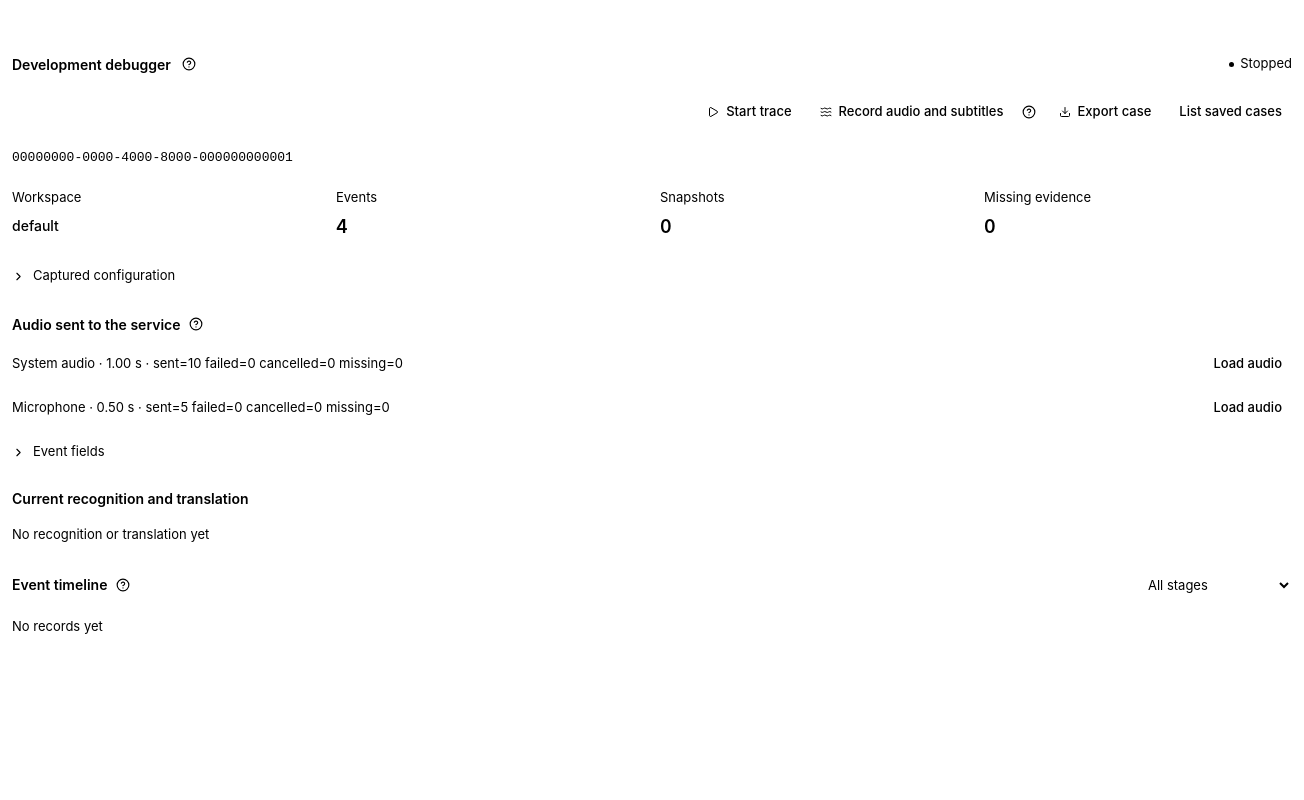
Test: explains a full case store without displaying arbitrary error content
Click the button "Record audio and subtitles" at (912, 112), box left=810, top=96, right=1014, bottom=128
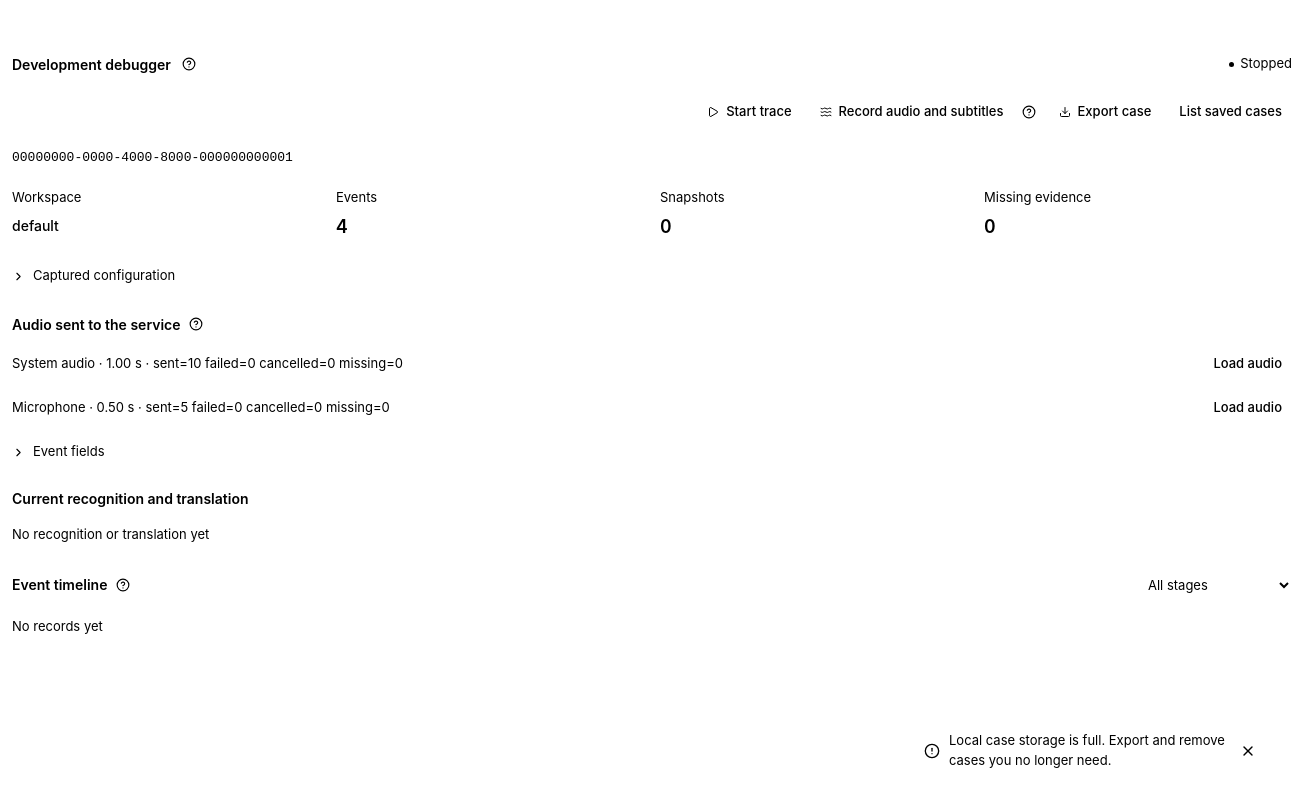
Check: the message with class "settings-toast" reads "Local case storage is full. Export and remove cases you no longer need.", box left=949, top=732, right=1225, bottom=768
Click the button "Record audio and subtitles" at (912, 112), box left=810, top=96, right=1014, bottom=128
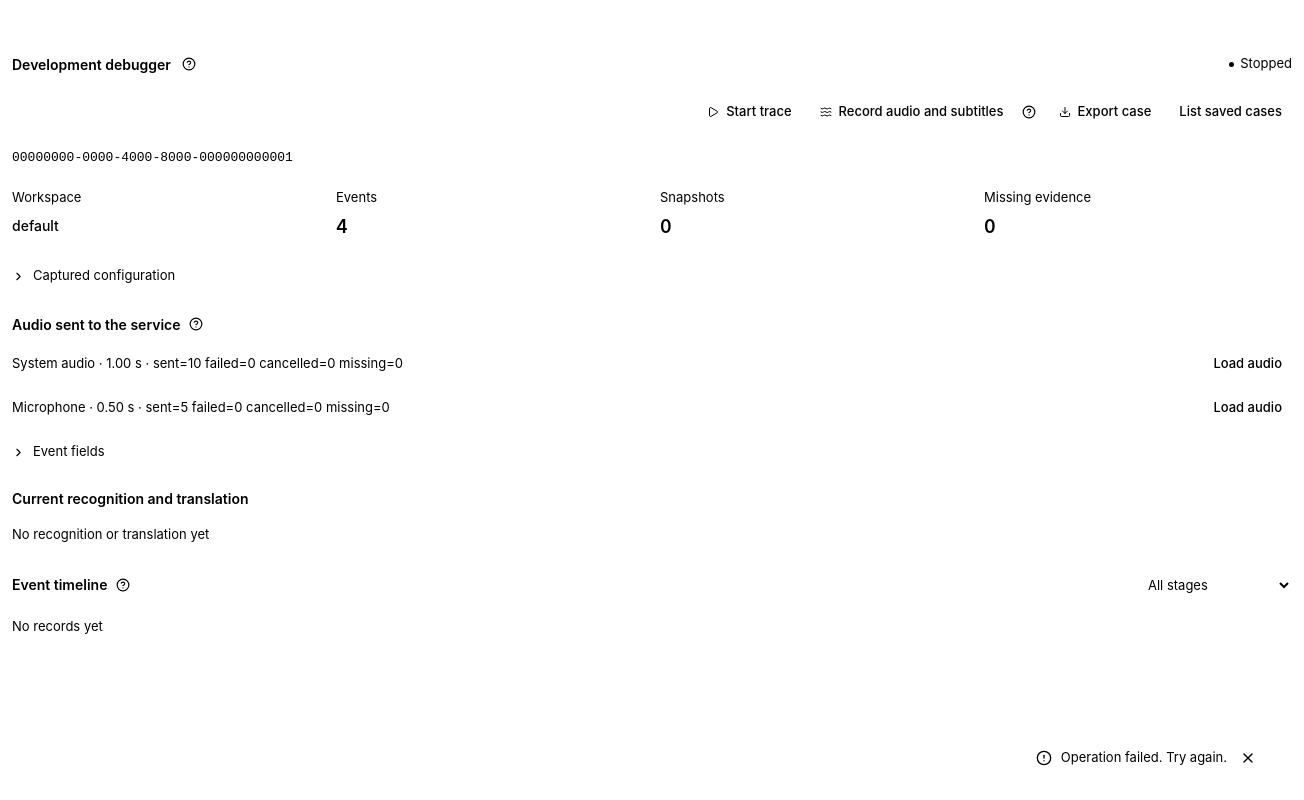
Check: the message with class "settings-toast" reads "Operation failed. Try again.", box left=1061, top=749, right=1227, bottom=765
